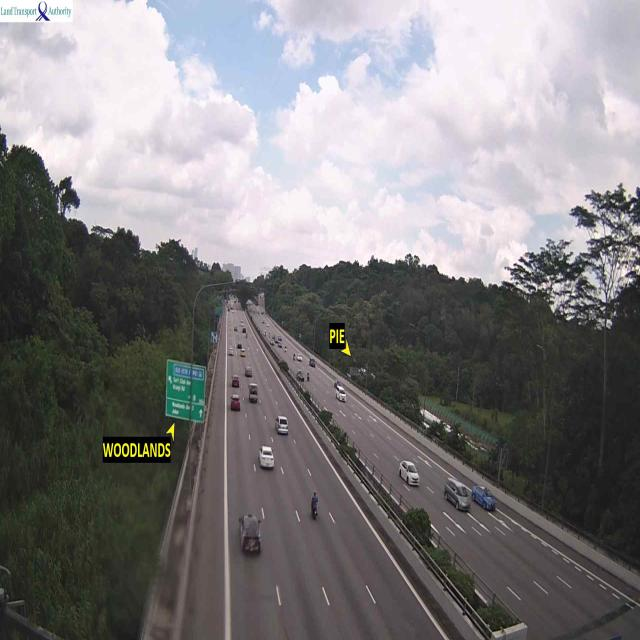car: (444, 479, 474, 512), (472, 485, 497, 513), (398, 460, 420, 486), (259, 446, 275, 468), (276, 417, 289, 434)
